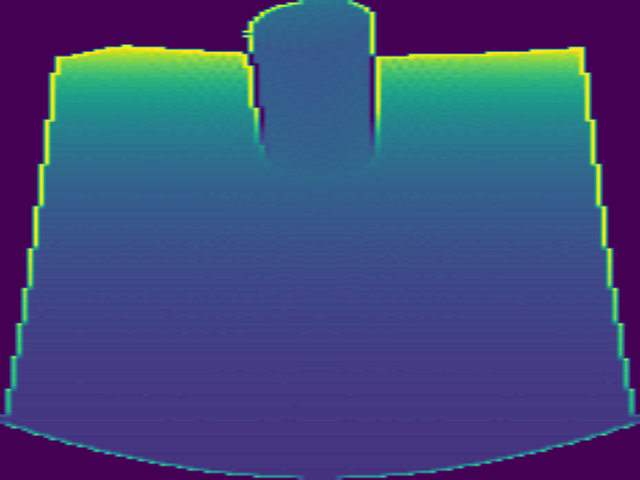cylinder: (241, 2, 378, 177)
